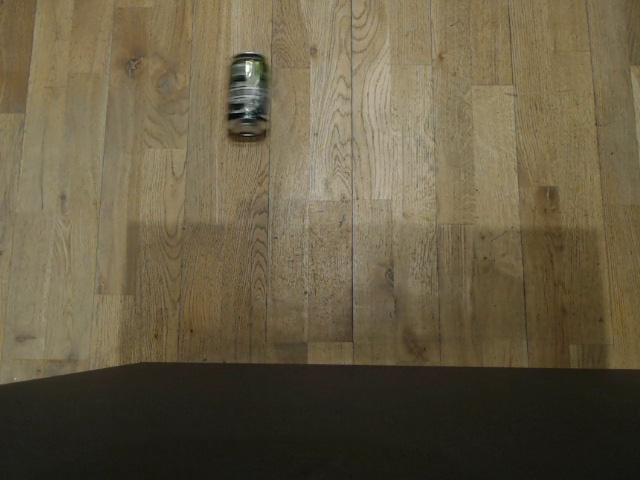beer: (222, 48, 274, 144)
